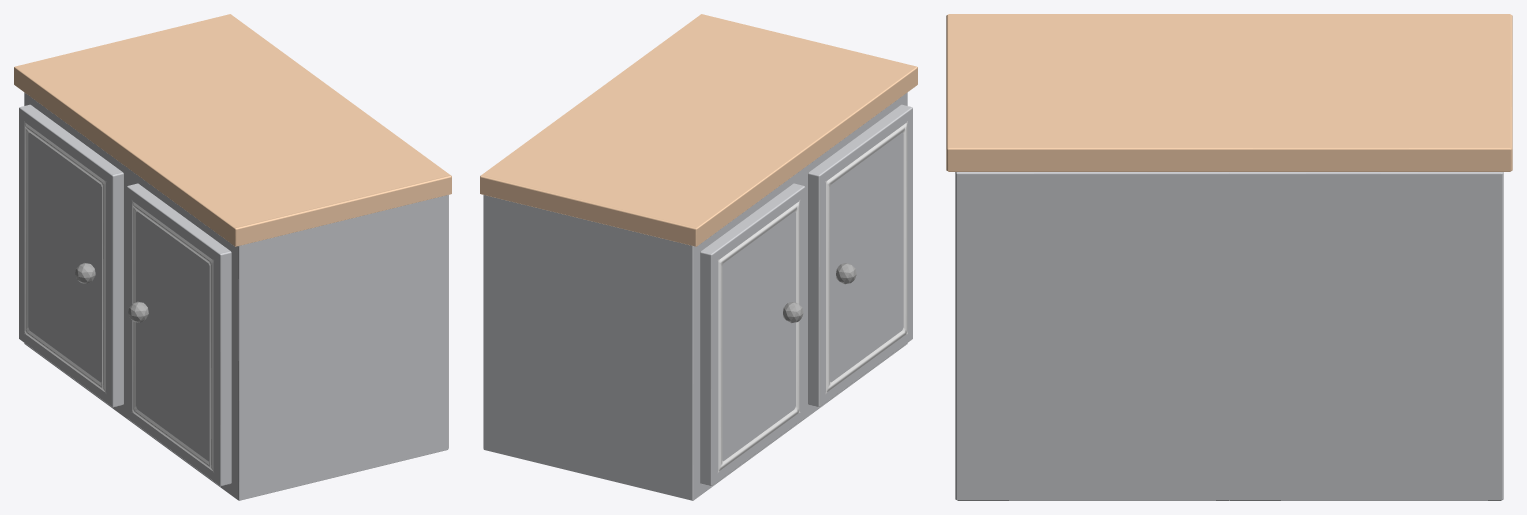
The model's file is despensa_baja.fbx.
3 views of the same model, side by side, from view 1: azimuth 30°, elevation 25°; view 2: azimuth 150°, elevation 25°; view 3: azimuth 270°, elevation 25° (orthographic). The views are drawn at different scales.
Visible parts, largest first — view 1: Counter; view 2: Counter; view 3: Counter.
Part boxes in pixels (x1=…): Counter: x1=14, y1=14, x2=451, y2=500; Counter: x1=480, y1=14, x2=917, y2=500; Counter: x1=946, y1=14, x2=1512, y2=500.
Bounding box in the file's own units: 193 × 215 × 312.
